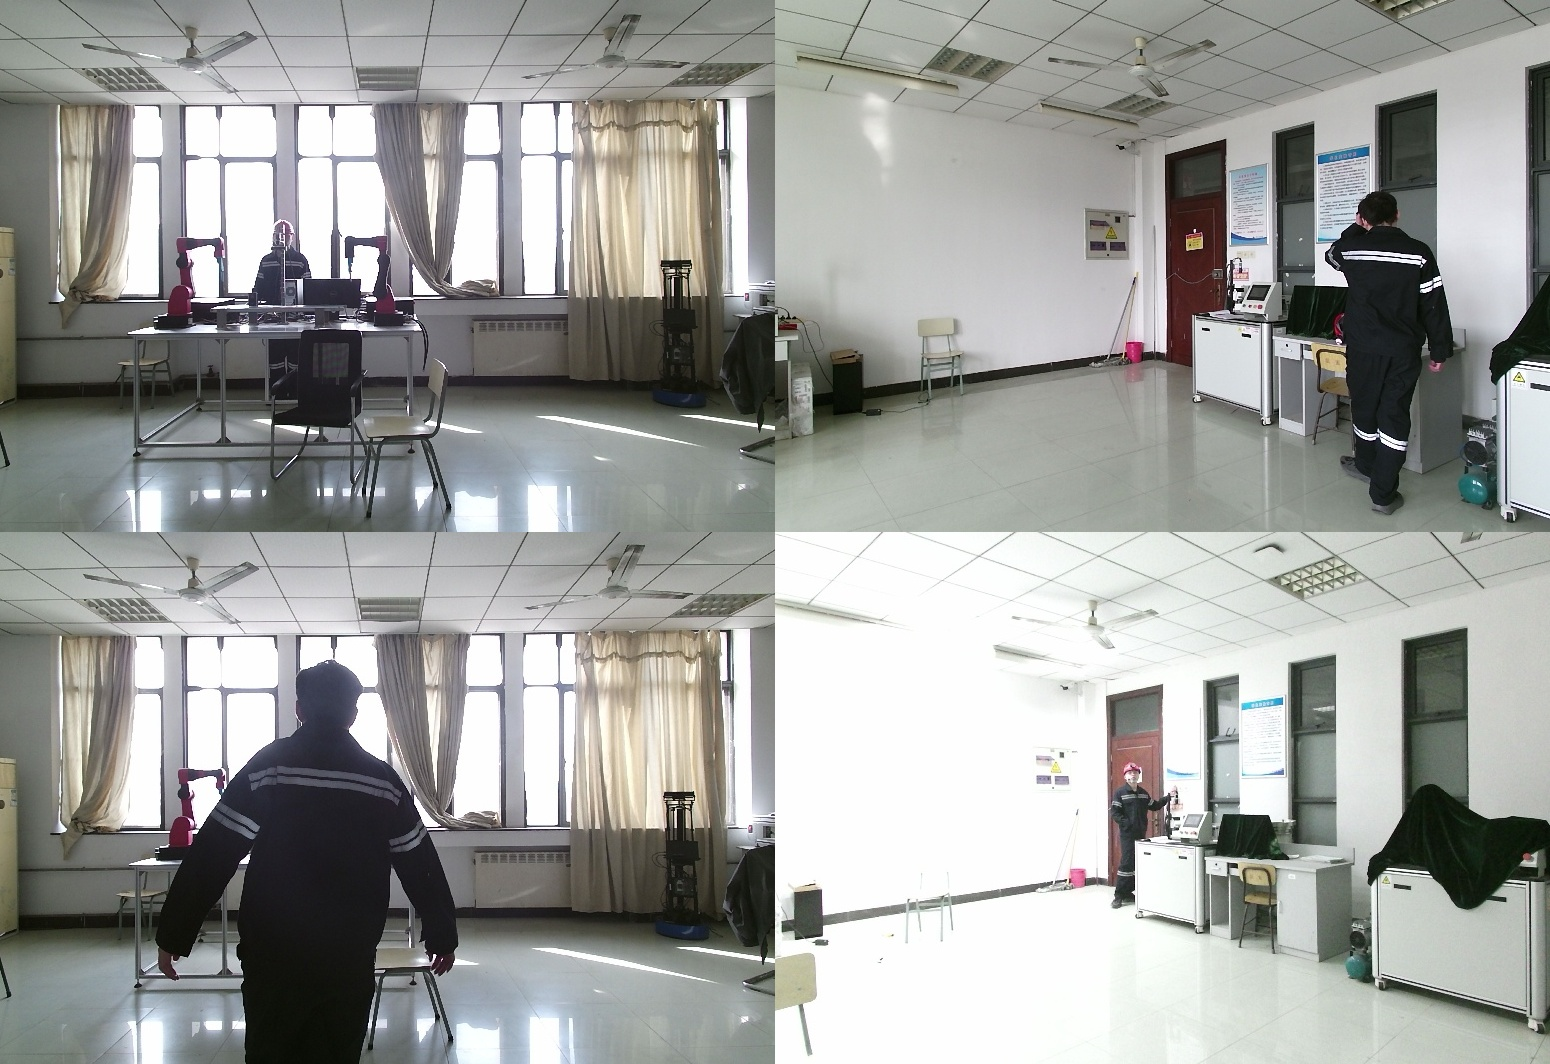person: (155, 662, 459, 1064), (1334, 191, 1469, 511), (251, 222, 312, 402), (1108, 763, 1169, 907)
